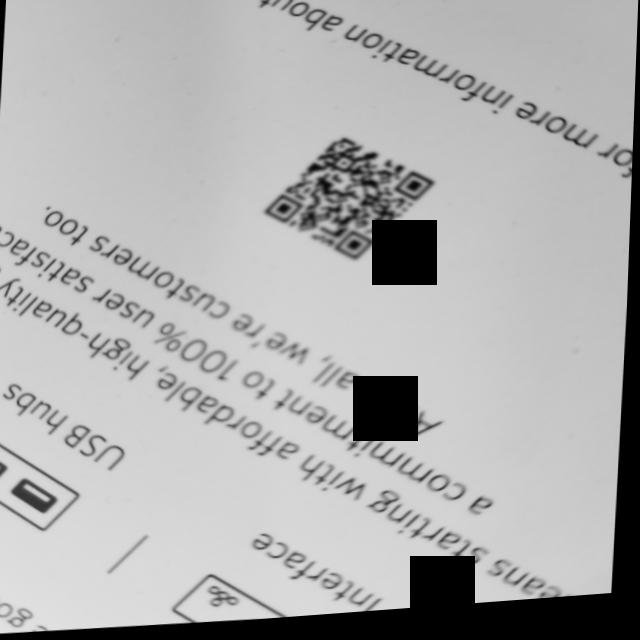QR_CODE: (251, 125, 452, 283)
